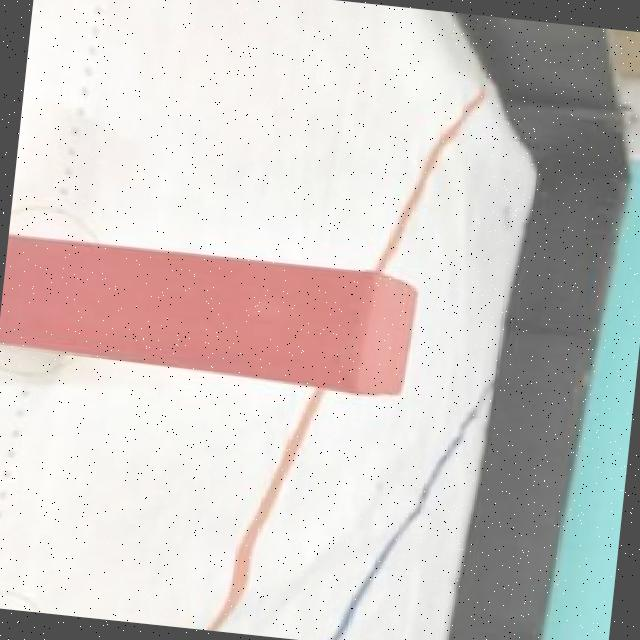redbox: (0, 229, 421, 398)
